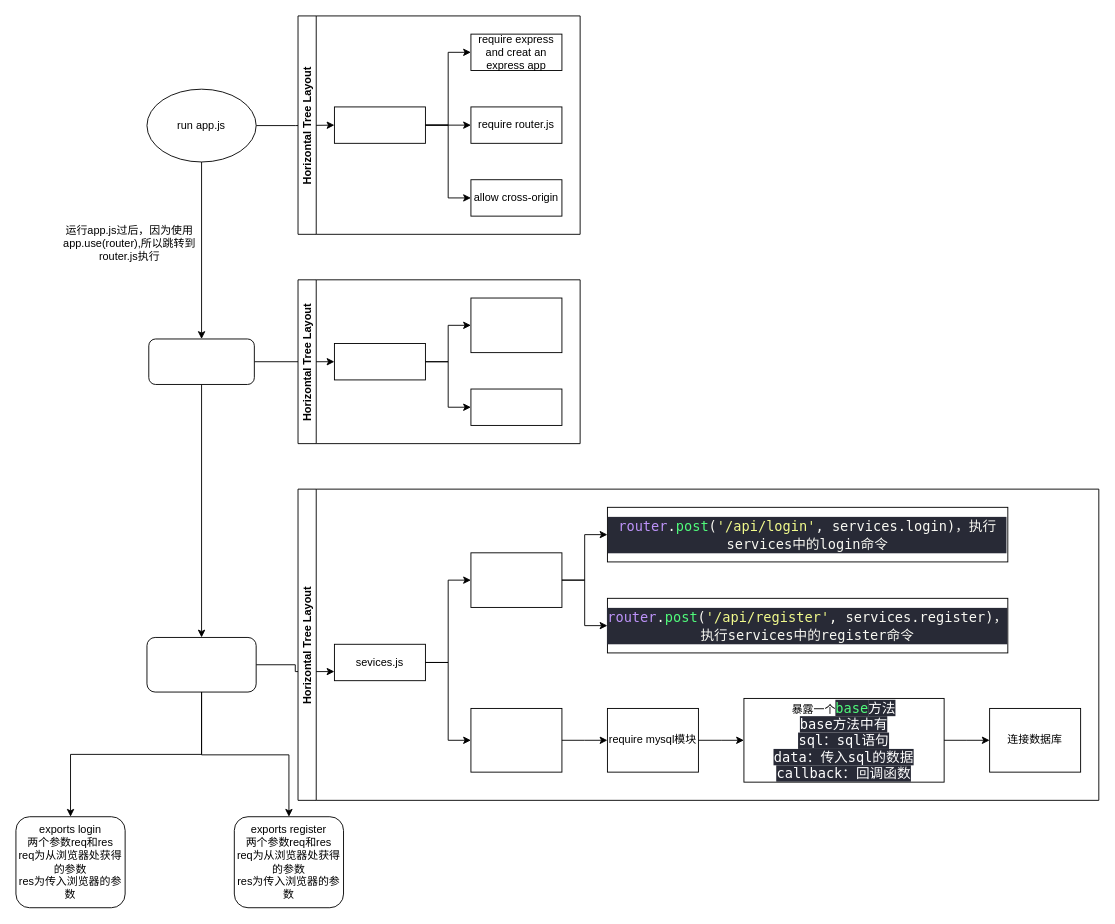
This 1115x924 diagram has some shape labels left out. The centre of each missing label's shape, as x and y in pixels:
"app.js" belongs at point 379,124.
"const router = express.Router(). use express's Roter" belongs at point 516,325.
"require db.js在执行登录和注册函数的时候，连接数据库读取写入数据" belongs at point 516,740.
"require service.js" belongs at point 516,406.
"router.js" belongs at point 201,361.
"routers" belongs at point 379,361.
"services.js" belongs at point 201,664.
"在router.js中根据访问地址的不同，执行命令不同" belongs at point 516,579.
